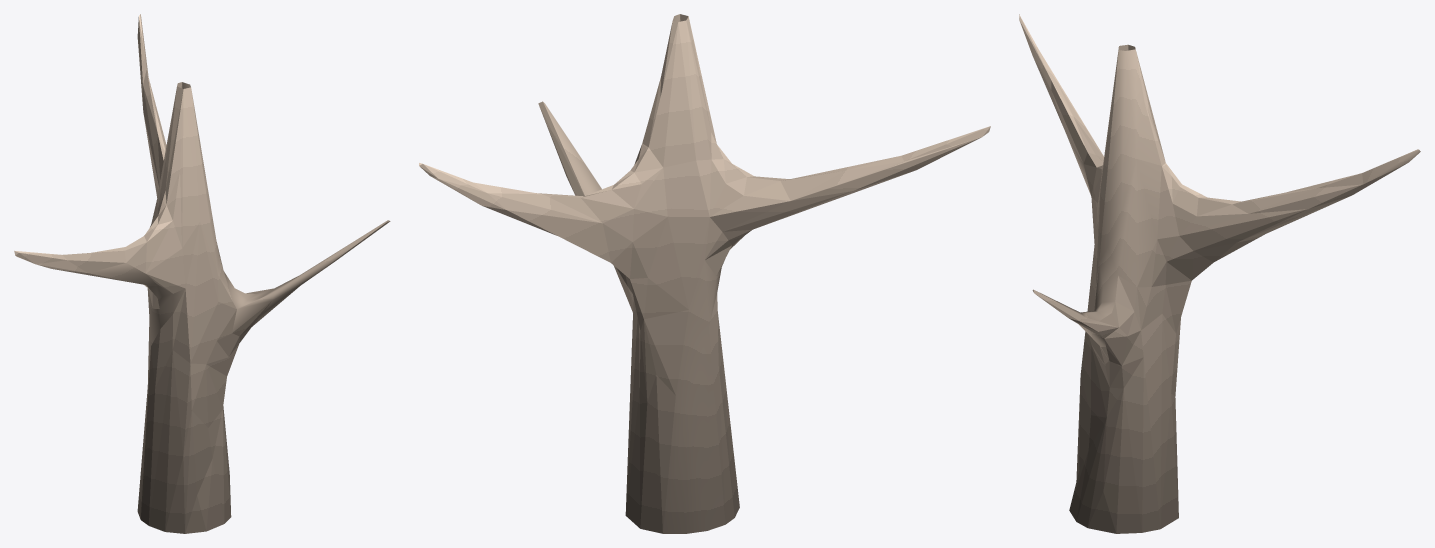
The model's file is Prefab_Foliage_Tree_Oak_Trunk_A.glb.
3 views of the same model, side by side, from view 1: azimuth 30°, elevation 25°; view 2: azimuth 150°, elevation 25°; view 3: azimuth 270°, elevation 25° (orthographic). The views are drawn at different scales.
Visible parts, largest first — view 1: OakTree_B_Trunk.001; view 2: OakTree_B_Trunk.001; view 3: OakTree_B_Trunk.001.
Boxes of the visible parts, x1,y1,x2,y2 form: OakTree_B_Trunk.001: (14,14,390,533); OakTree_B_Trunk.001: (419,14,990,533); OakTree_B_Trunk.001: (1019,14,1420,533).
Bounding box in the file's own units: 8.87 × 9.4 × 7.37.
Materials: 1 (1 with a texture image).
